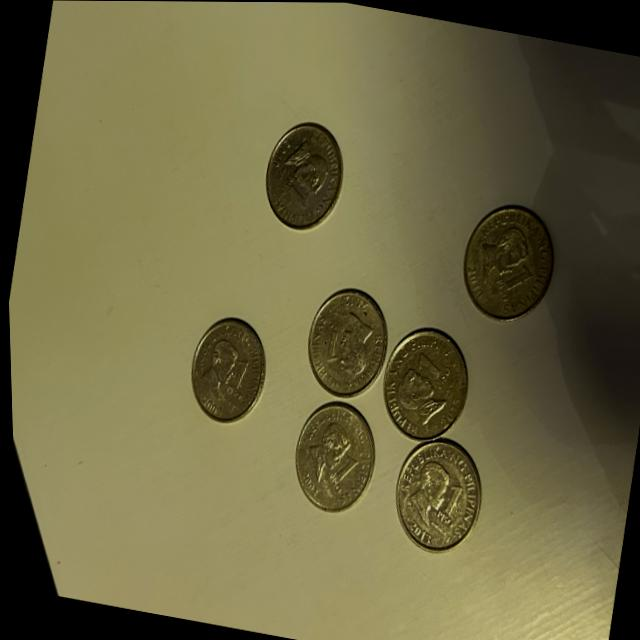1_Old_Front: (484, 253, 541, 314), (426, 472, 465, 534), (314, 311, 352, 367), (217, 355, 254, 405), (323, 448, 360, 498), (408, 355, 452, 393), (275, 176, 315, 210)
